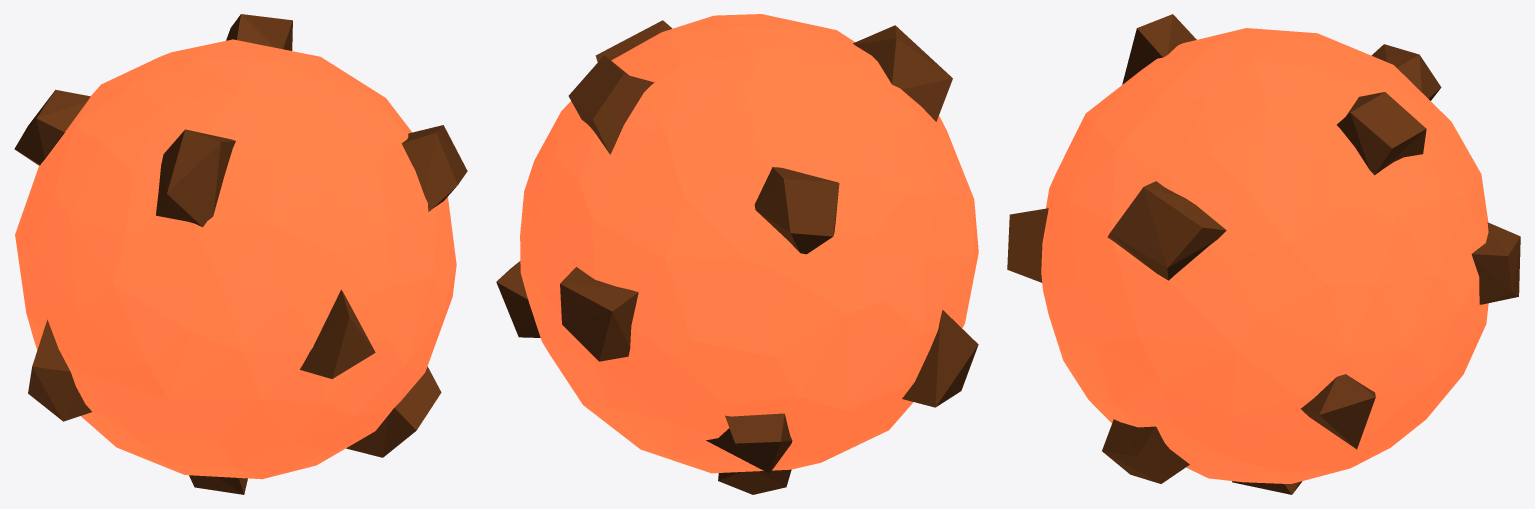
File: lava_planet8.fbx
3 renders of one model, left to right at view 1: azimuth 30°, elevation 25°; view 2: azimuth 150°, elevation 25°; view 3: azimuth 270°, elevation 25°, orthographic. The views are drawn at different scales.
Parts seen in each view (by area): view 1: lava_planet8; view 2: lava_planet8; view 3: lava_planet8.
Boxes of the visible parts, x1=… form: lava_planet8: x1=14, y1=14, x2=467, y2=494; lava_planet8: x1=496, y1=14, x2=978, y2=494; lava_planet8: x1=1007, y1=14, x2=1520, y2=494.
Size of the model in its own units: 228 by 221 by 236.
